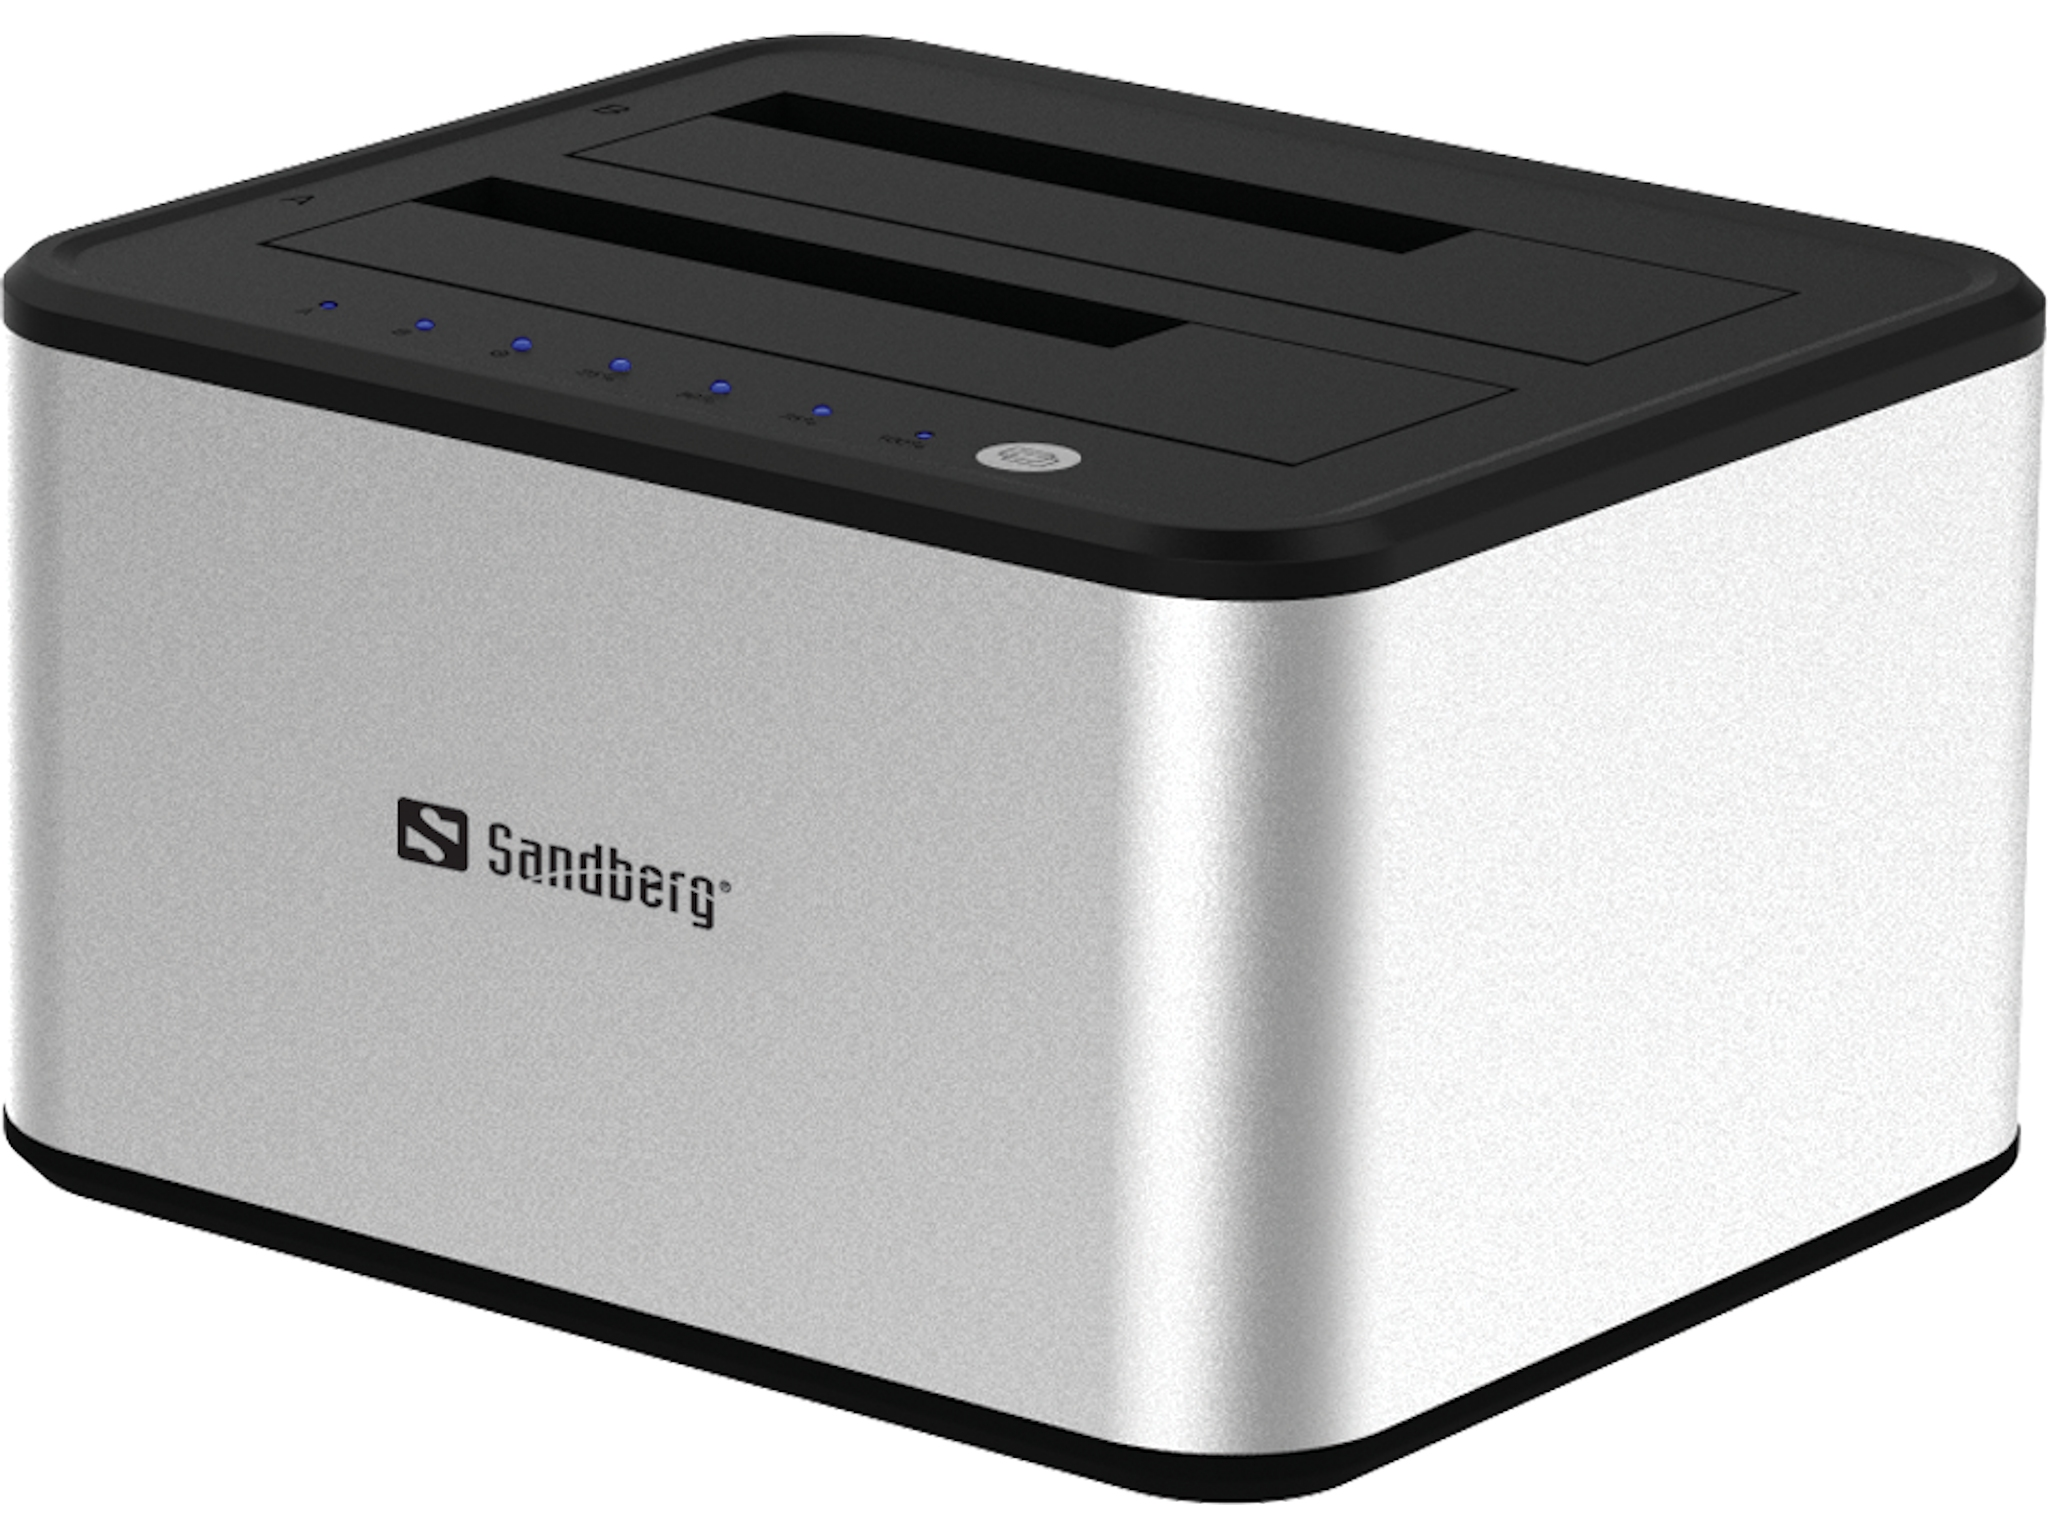HDD Docking Station: (2, 15, 2042, 1534)
